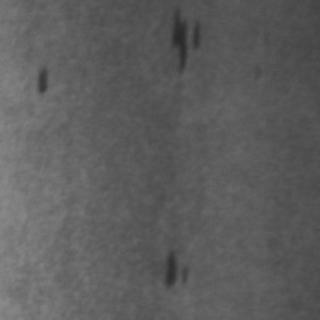inclusion: (165, 3, 201, 73), (156, 243, 192, 291), (30, 60, 50, 96)
